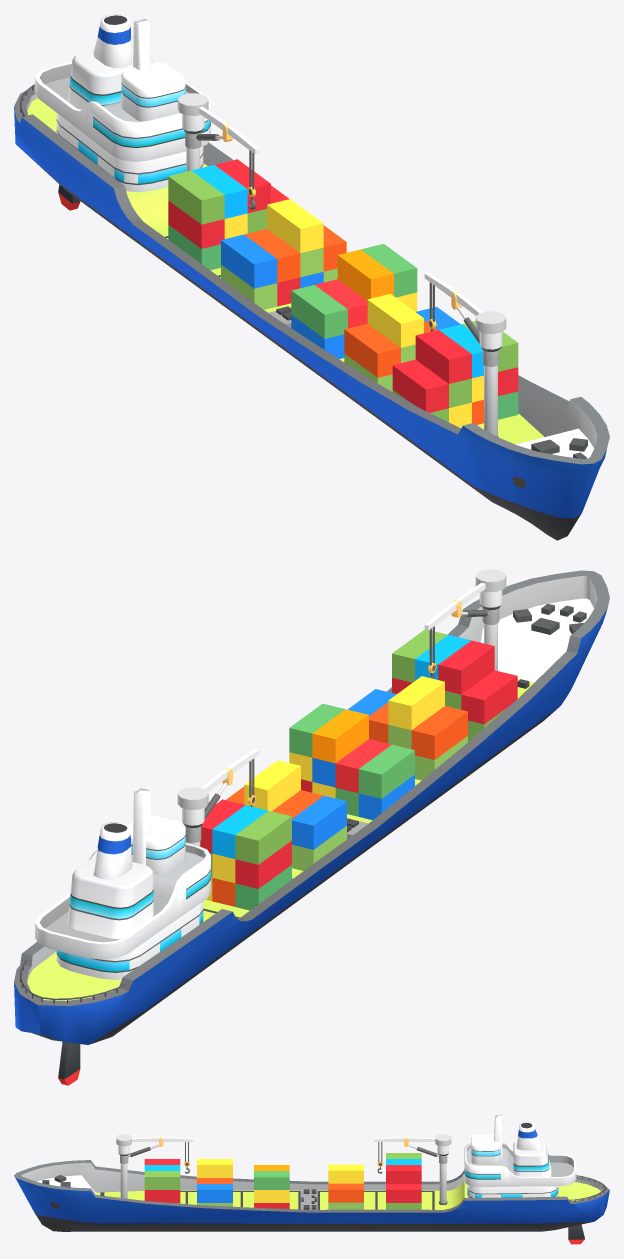
Rendered from city2-cargo-ship-01.glb.
3 renders of one model, top to bottom at view 1: azimuth 30°, elevation 25°; view 2: azimuth 150°, elevation 25°; view 3: azimuth 270°, elevation 25°, orthographic. The views are drawn at different scales.
Parts seen in each view (by area): view 1: Cargo_Ship_01; view 2: Cargo_Ship_01; view 3: Cargo_Ship_01.
Boxes of the visible parts, x1,y1,x2,y2 form: Cargo_Ship_01: [14, 14, 609, 540]; Cargo_Ship_01: [14, 569, 609, 1085]; Cargo_Ship_01: [14, 1114, 609, 1244].
Bounding box in the file's own units: 11.06 × 20.82 × 88.32.
Materials: 1 (1 with a texture image).
